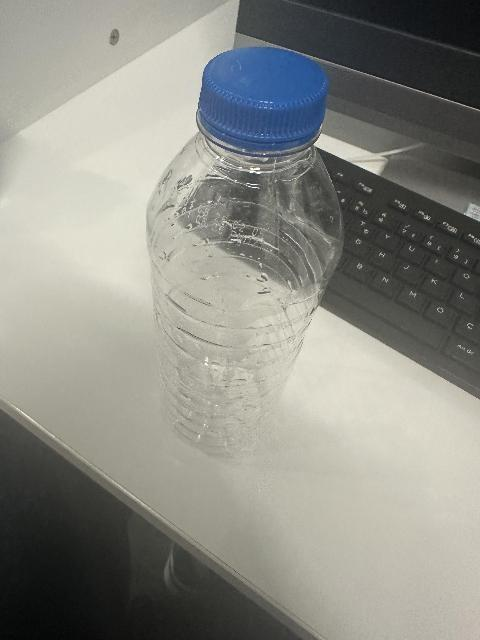Plastik: (141, 52, 348, 460), (192, 54, 333, 137)
